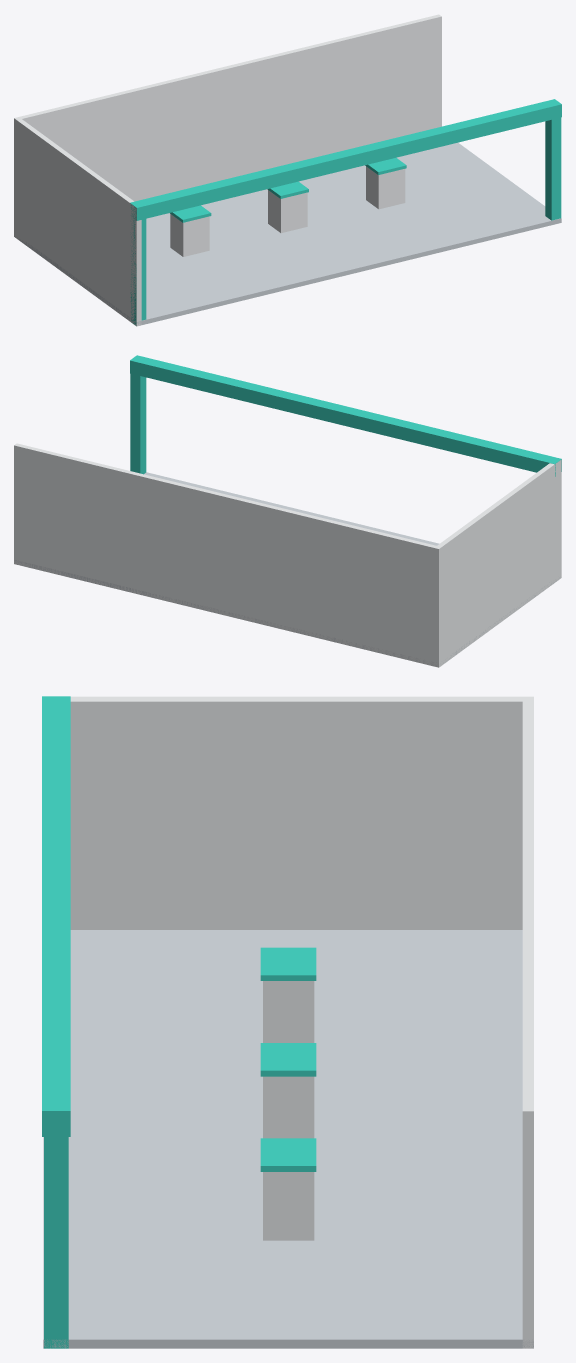
3 renders of one model, top to bottom at view 1: azimuth 30°, elevation 25°; view 2: azimuth 150°, elevation 25°; view 3: azimuth 270°, elevation 25°, orthographic. The views are drawn at different scales.
Parts seen in each view (by area): view 1: Exhibition Booth Concept; view 2: Exhibition Booth Concept; view 3: Exhibition Booth Concept.
Part boxes in pixels (x1,y1,x2,y2): Exhibition Booth Concept: (14,14,561,326); Exhibition Booth Concept: (14,355,561,667); Exhibition Booth Concept: (42,696,533,1348).
Bounding box in the file's own units: 12 × 3.2 × 6.02.
